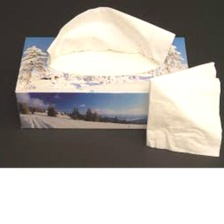book: (9, 30, 194, 135)
tissue: (38, 0, 179, 79), (139, 57, 224, 161)
